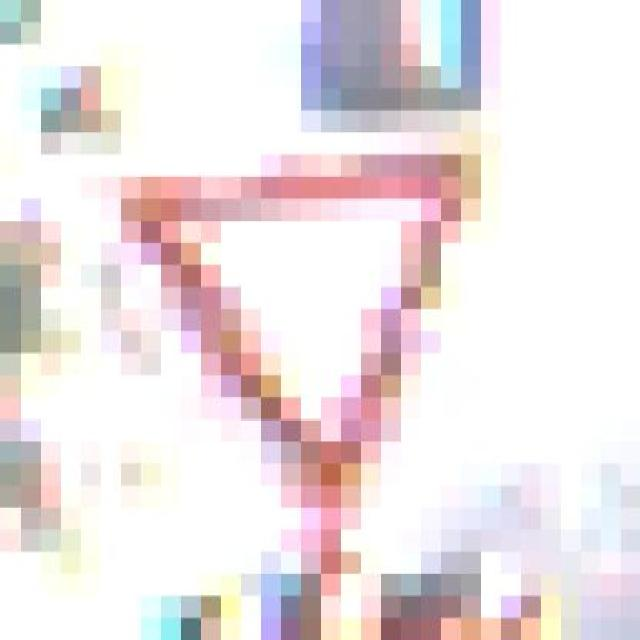Give Way: (0, 110, 540, 552)
